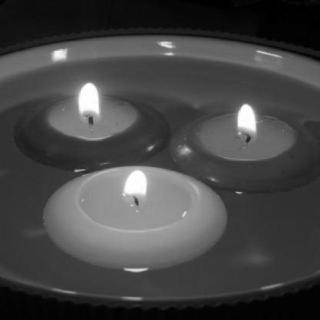Fire: (62, 72, 111, 134)
